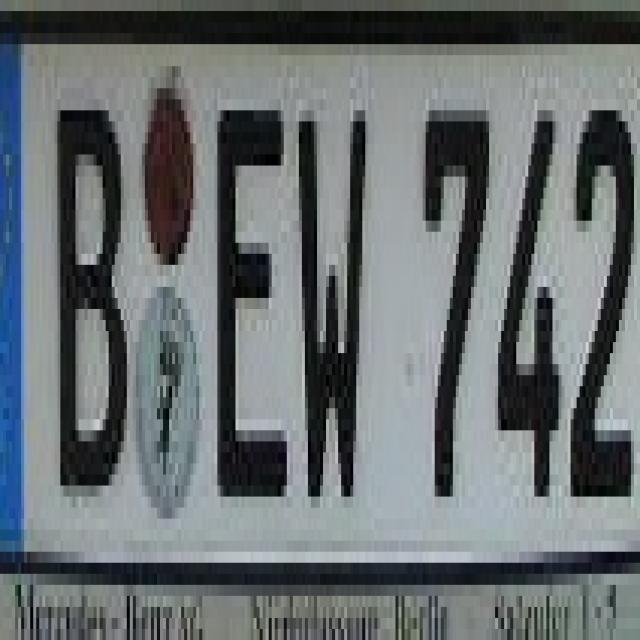2: (564, 110, 640, 518)
4: (492, 99, 565, 519)
7: (420, 77, 489, 519)
B: (51, 77, 130, 508)
E: (211, 99, 290, 530)
